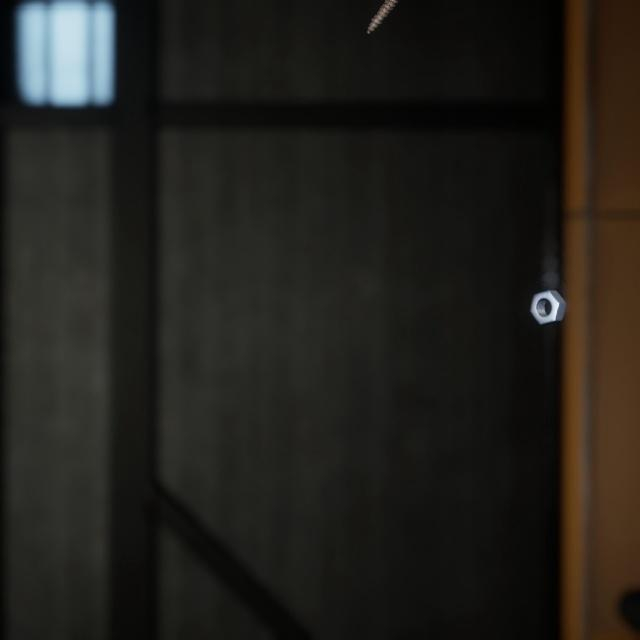bolt: (362, 0, 399, 32)
nut: (525, 268, 570, 311)
